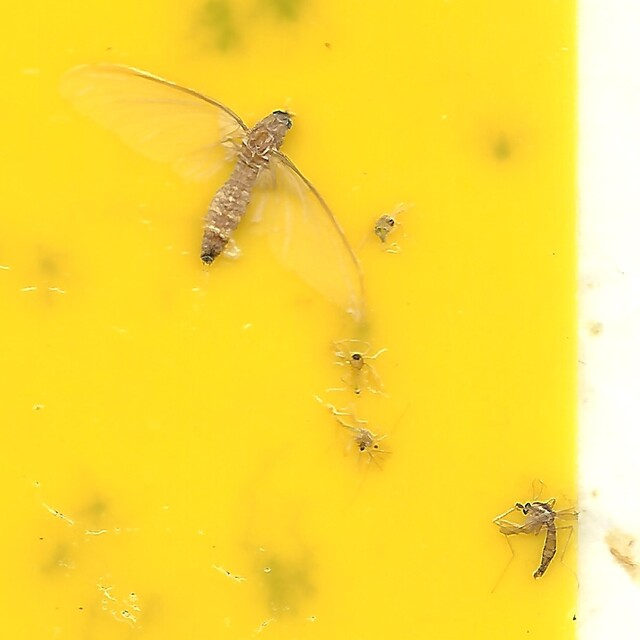Ephemeroptera: (60, 62, 369, 326)
Nematocera: (489, 484, 580, 578), (336, 342, 388, 401), (349, 425, 393, 479), (369, 210, 399, 248)
